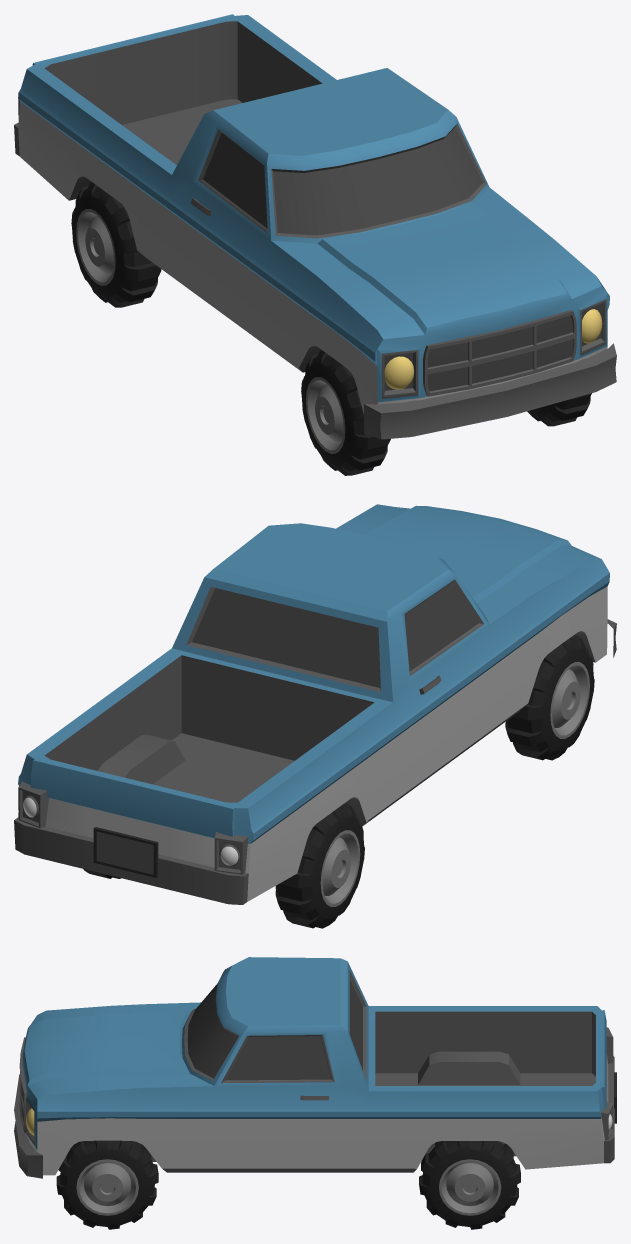
File: pickup-truck.glb
The picture shows the model from 3 angles, top to bottom: view 1: azimuth 30°, elevation 25°; view 2: azimuth 150°, elevation 25°; view 3: azimuth 270°, elevation 25°; orthographic projection. The views are drawn at different scales.
Visible parts, largest first — view 1: pickup-truck; view 2: pickup-truck; view 3: pickup-truck.
Part boxes in pixels (box(x1,y1,x2,y2)): pickup-truck: box(14, 14, 616, 475); pickup-truck: box(14, 504, 616, 928); pickup-truck: box(14, 957, 616, 1229).
Size of the model in its own units: 2 by 1.89 by 5.3.
3 materials, 1 textured.
